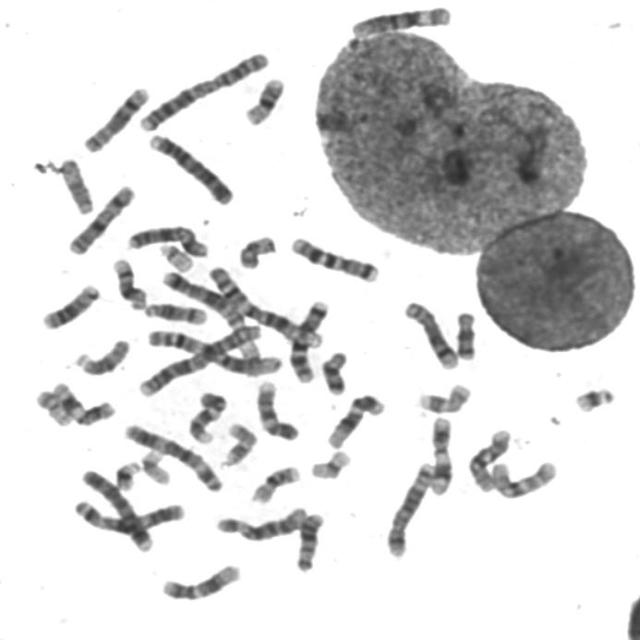A1: (203, 259, 327, 350), (143, 323, 284, 378)
A2: (135, 44, 273, 132), (136, 318, 267, 398)
A3: (119, 417, 227, 493), (70, 492, 190, 534)
B4: (76, 462, 158, 553), (144, 127, 237, 207)
B5: (158, 263, 250, 331), (381, 456, 439, 560)
C10: (464, 423, 516, 494), (486, 453, 562, 501)
C11: (48, 376, 119, 427), (425, 411, 457, 496)
C12: (323, 388, 390, 450), (157, 558, 245, 602)
C6: (212, 500, 311, 544), (346, 1, 456, 40)
C7: (286, 230, 384, 284), (286, 294, 334, 384)
C8: (78, 80, 154, 154), (399, 294, 463, 370)
C9: (251, 374, 303, 442), (184, 386, 231, 444)
D13: (37, 278, 103, 331), (292, 507, 328, 573)
D14: (108, 252, 151, 311), (140, 296, 210, 326)
D15: (71, 332, 134, 377), (55, 152, 98, 216)
E16: (240, 70, 289, 127), (247, 459, 304, 505)
E17: (414, 378, 476, 416), (217, 417, 261, 469)
E18: (317, 344, 353, 396), (451, 305, 482, 361)
F19: (306, 444, 354, 482), (136, 444, 174, 486)
F20: (30, 384, 76, 427), (236, 234, 276, 271)
G21: (569, 380, 620, 415), (110, 455, 144, 492)
G22: (227, 322, 265, 369), (155, 237, 198, 273)
X: (63, 178, 138, 257), (123, 219, 212, 258)
